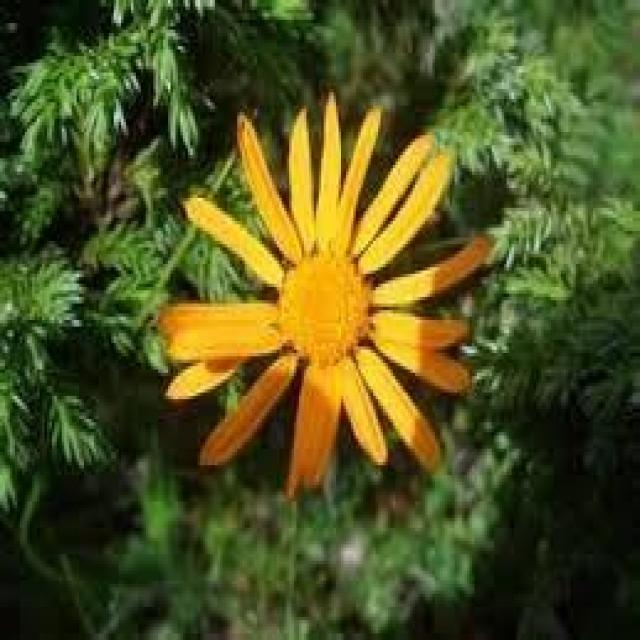organic waste: (160, 107, 492, 487)
